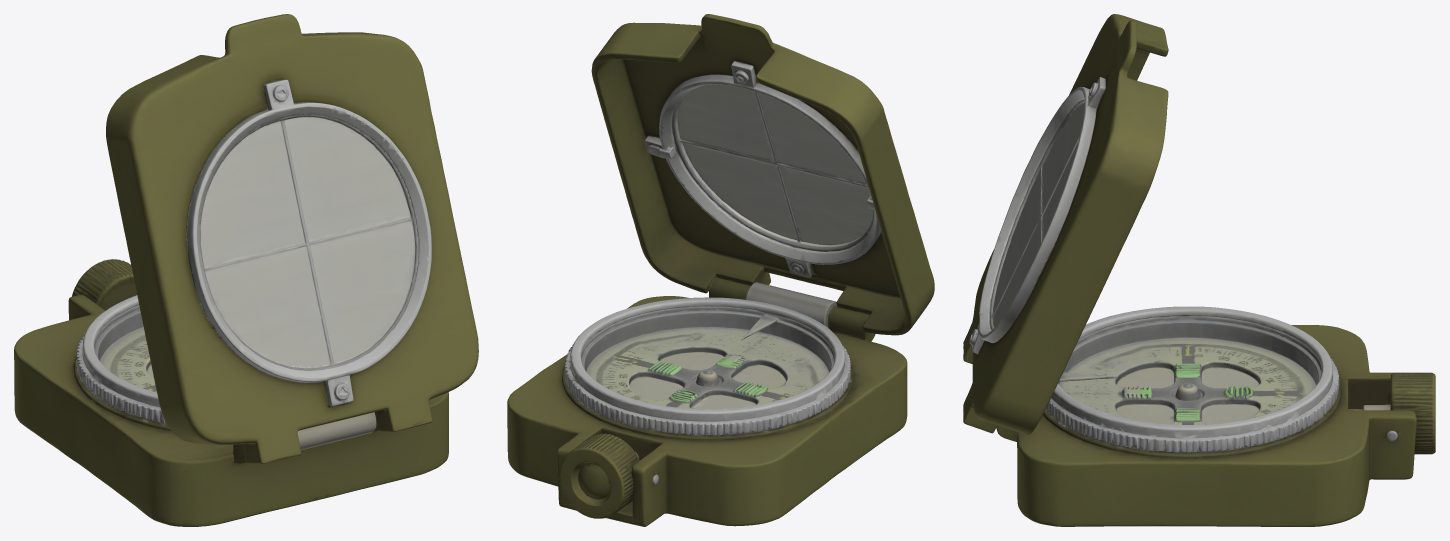
File: prop_compass-3D2YGJ5G.glb
The picture shows the model from 3 angles, left to right: view 1: azimuth 30°, elevation 25°; view 2: azimuth 150°, elevation 25°; view 3: azimuth 270°, elevation 25°; orthographic projection. The views are drawn at different scales.
Bounding box in the file's own units: 0.6947 × 1 × 0.9942.
1 material, 1 textured.
